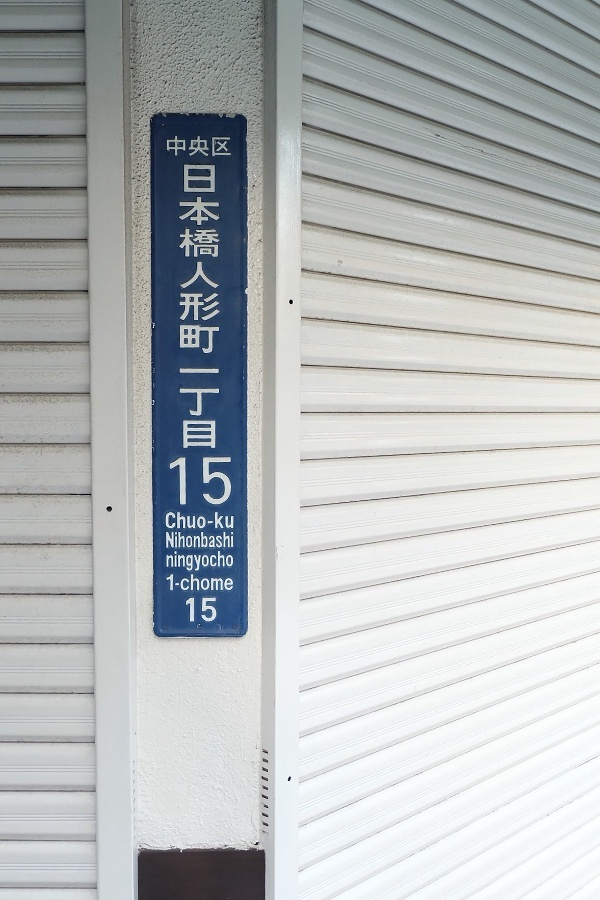text: (193, 161, 208, 452), (179, 161, 192, 452), (209, 161, 220, 452), (177, 452, 192, 507), (193, 452, 208, 507), (209, 452, 224, 507), (225, 452, 233, 507), (169, 452, 176, 507), (193, 598, 208, 623), (177, 136, 192, 159), (193, 136, 208, 159), (209, 136, 224, 159), (177, 549, 192, 572), (193, 549, 208, 572), (209, 549, 224, 572), (177, 530, 192, 550), (193, 530, 208, 550), (209, 530, 224, 550), (177, 512, 192, 531), (193, 512, 208, 531), (209, 512, 224, 531), (177, 573, 192, 592), (193, 573, 208, 592), (209, 573, 224, 592), (166, 136, 176, 159), (166, 549, 176, 572), (165, 512, 176, 531), (225, 549, 234, 572), (166, 530, 176, 550), (209, 598, 217, 623), (225, 512, 235, 531), (166, 573, 176, 592), (225, 530, 234, 550), (185, 598, 192, 623), (225, 573, 234, 592), (225, 136, 232, 159)
